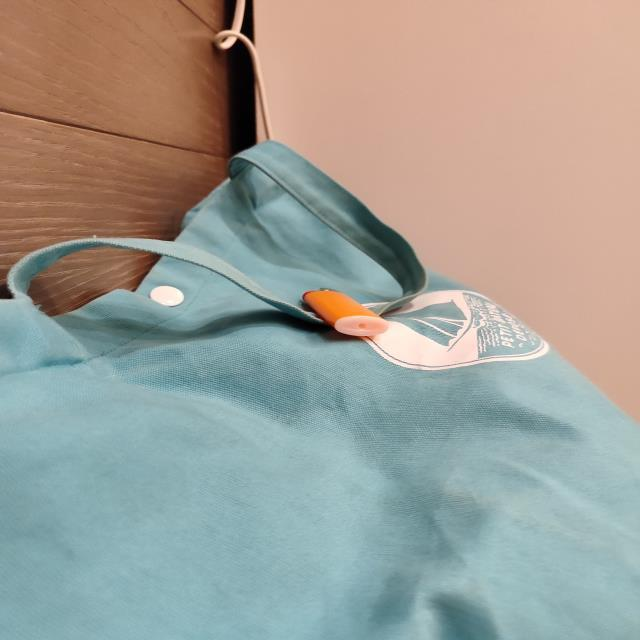lighter: (303, 290, 387, 338)
